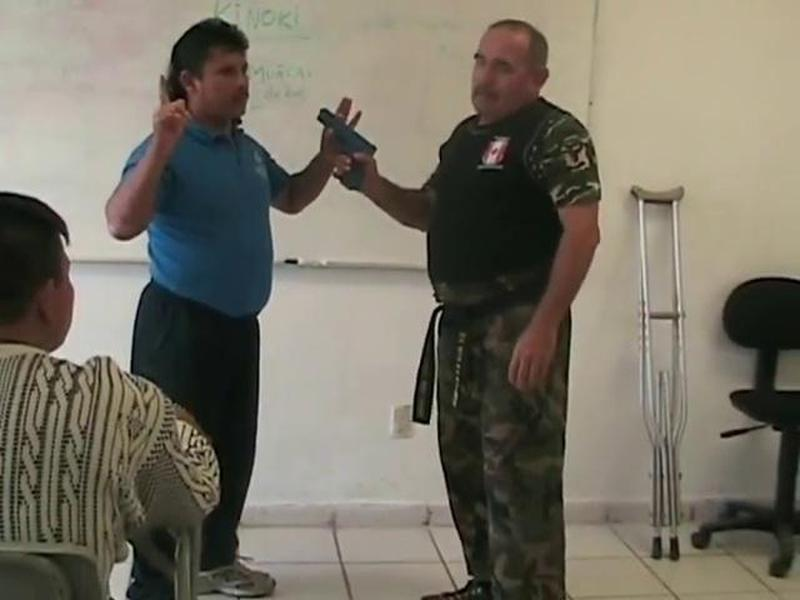Pistola: (293, 104, 397, 203)
